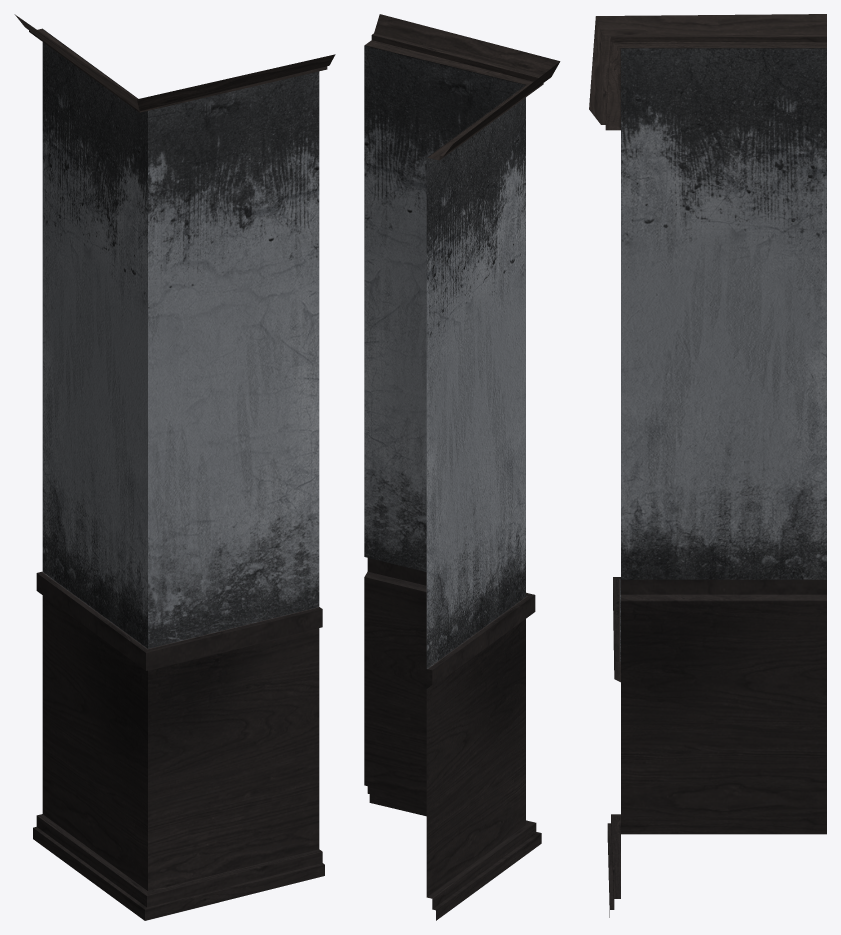
The model's file is FPH_WallAngleTwo.fbx.
3 renders of one model, left to right at view 1: azimuth 30°, elevation 25°; view 2: azimuth 150°, elevation 25°; view 3: azimuth 270°, elevation 25°, orthographic. The views are drawn at different scales.
Visible parts, largest first — view 1: FPH_WallAngleTwo; view 2: FPH_WallAngleTwo; view 3: FPH_WallAngleTwo.
Part boxes in pixels (x1,y1,x2,y2): FPH_WallAngleTwo: [14, 14, 335, 920]; FPH_WallAngleTwo: [364, 14, 560, 920]; FPH_WallAngleTwo: [589, 14, 826, 917].
Size of the model in its own units: 3.35 by 13.3 by 3.53.
